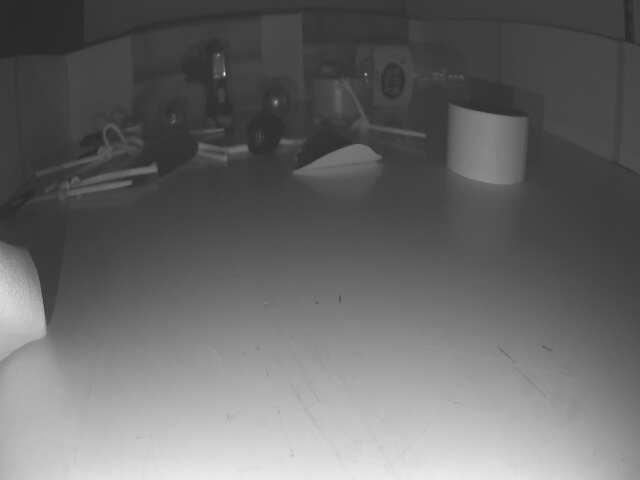Dead: (248, 115, 282, 150)
Live: (264, 86, 291, 117), (164, 107, 184, 125)
